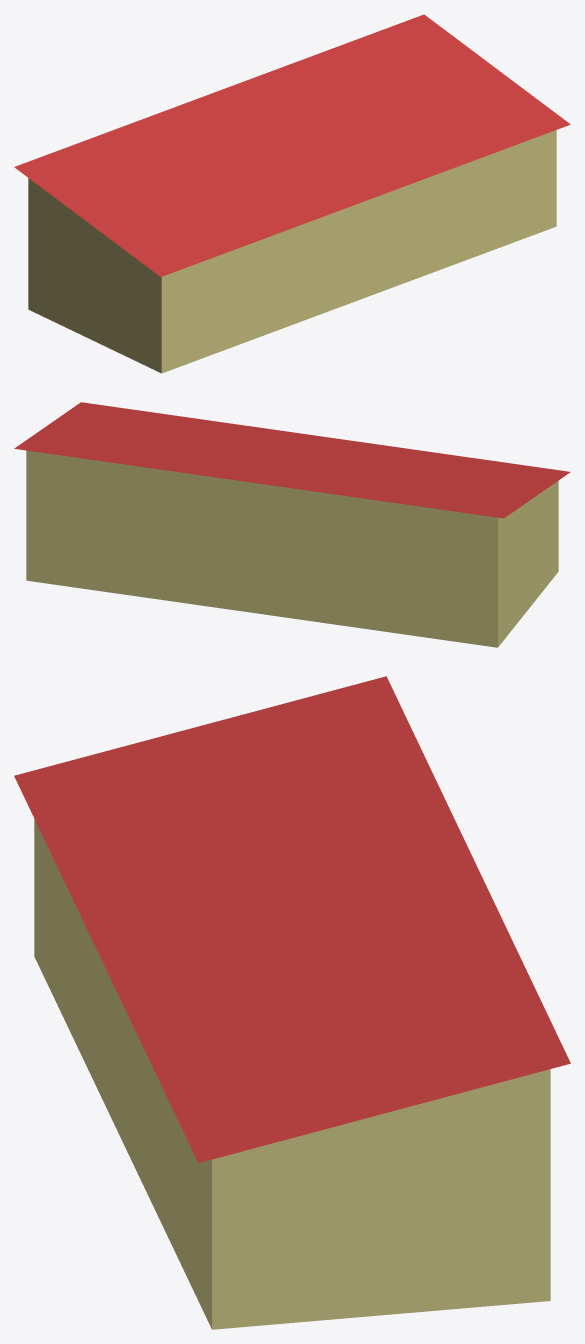
3 renders of one model, top to bottom at view 1: azimuth 30°, elevation 25°; view 2: azimuth 150°, elevation 25°; view 3: azimuth 270°, elevation 25°, orthographic. The views are drawn at different scales.
Bounding box in the file's own units: 28.53 × 16.03 × 7.72.
